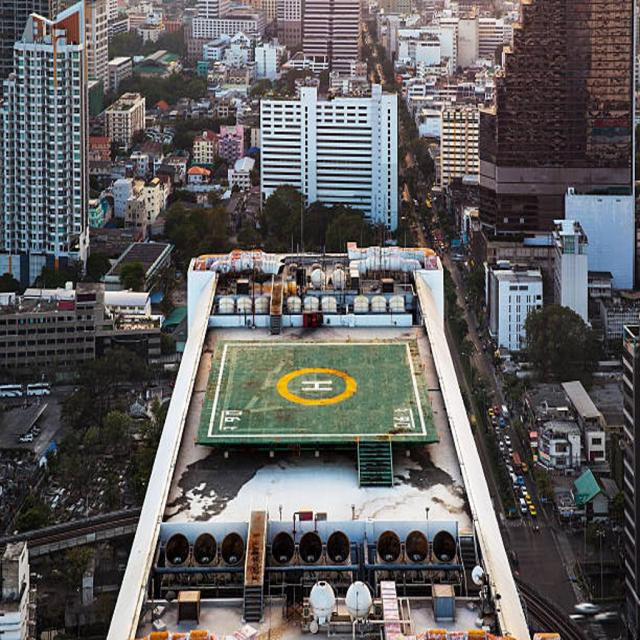helipad: (275, 366, 357, 404)
